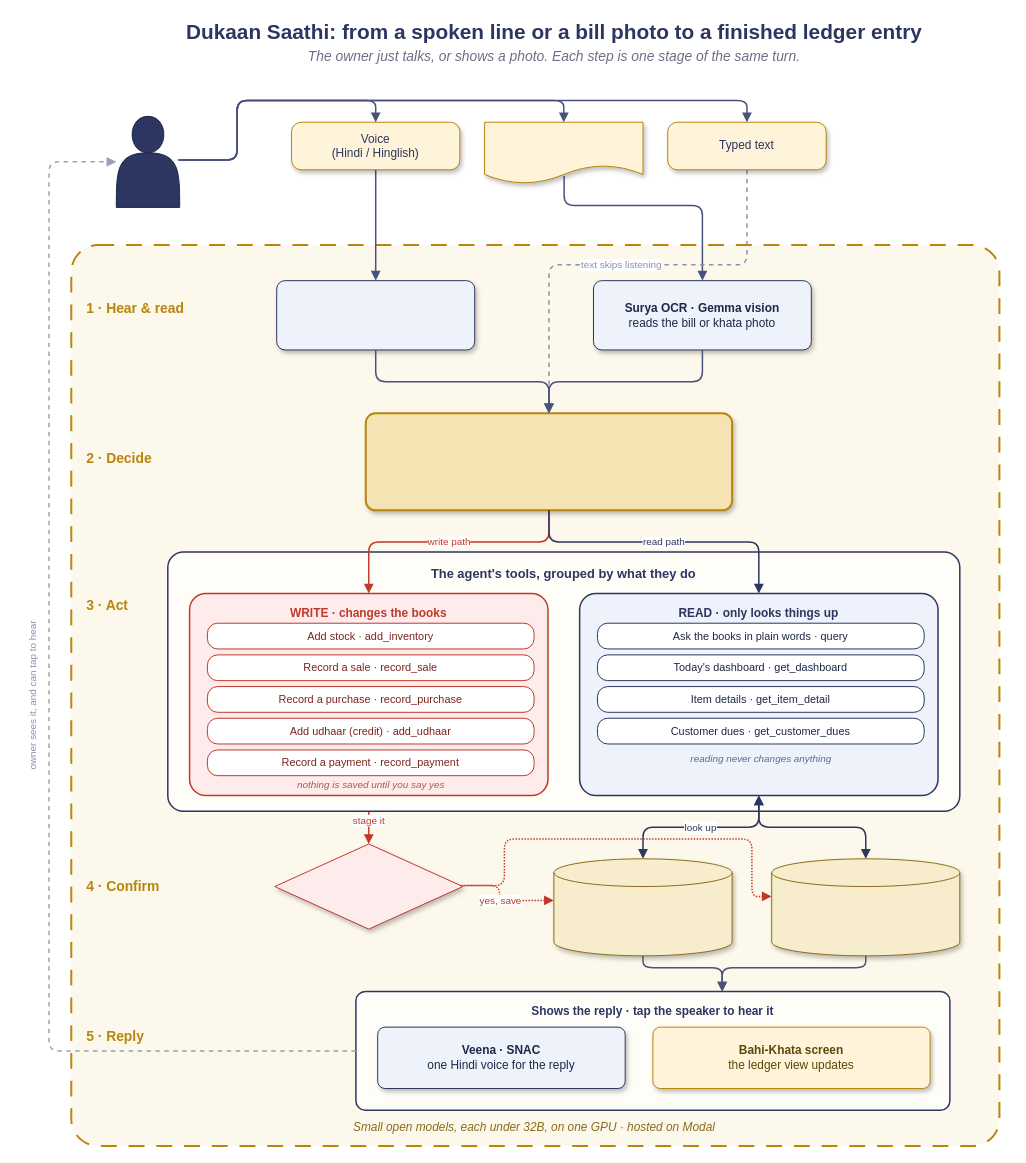
This 1026x1163 diagram has some shape labels left out. Each missing label, with the centre of its shape:
Bill or khata Photo: [564,154]
Dukaan owner (speaks Hindi): [147,161]
faster-whisper turns the voice into Hindi text: [376,316]
Gemma 4 · 12B · the brain picks the right action (deepagents loop): [549,463]
Stock book inventory.db: [643,908]
Udhaar book transactions.db: [866,908]
yes or no? asks before any write: [369,887]
